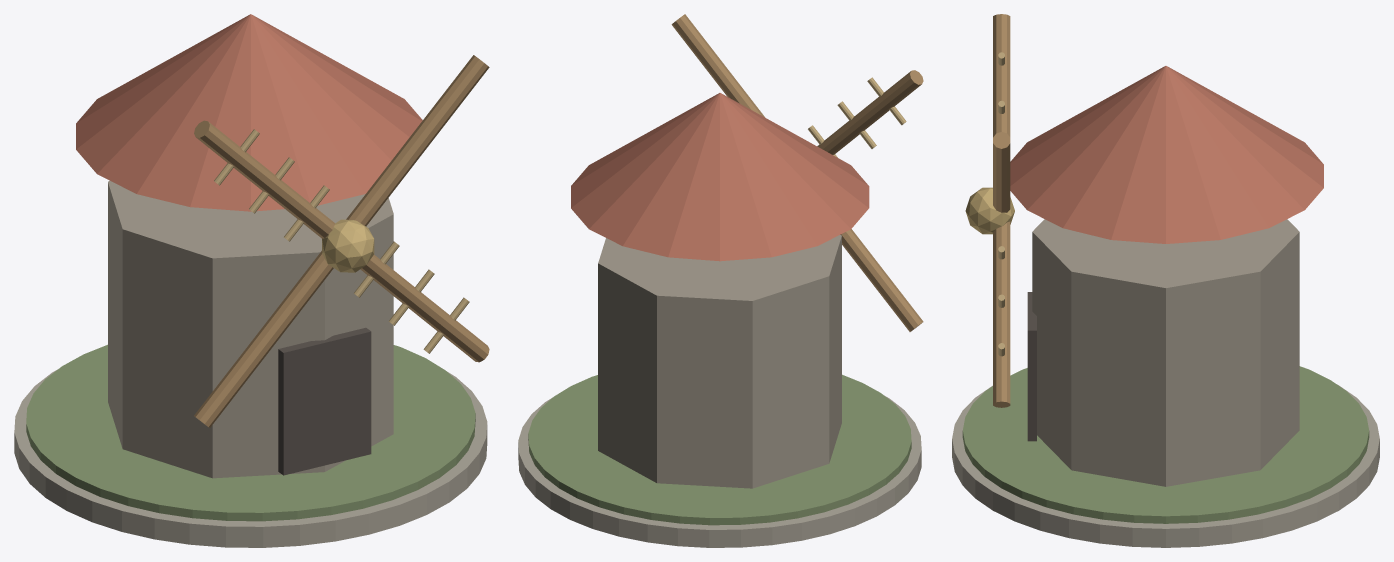
Rendered from windmill.glb.
3 views of the same model, side by side, from view 1: azimuth 30°, elevation 25°; view 2: azimuth 150°, elevation 25°; view 3: azimuth 270°, elevation 25° (orthographic). The views are drawn at different scales.
Parts seen in each view (by area): view 1: world; view 2: world; view 3: world.
Boxes of the visible parts, x1,y1,x2,y2 form: world: [14, 14, 489, 547]; world: [518, 14, 923, 547]; world: [952, 14, 1379, 547].
Bounding box in the file's own units: 1.12 × 1.13 × 1.12.
